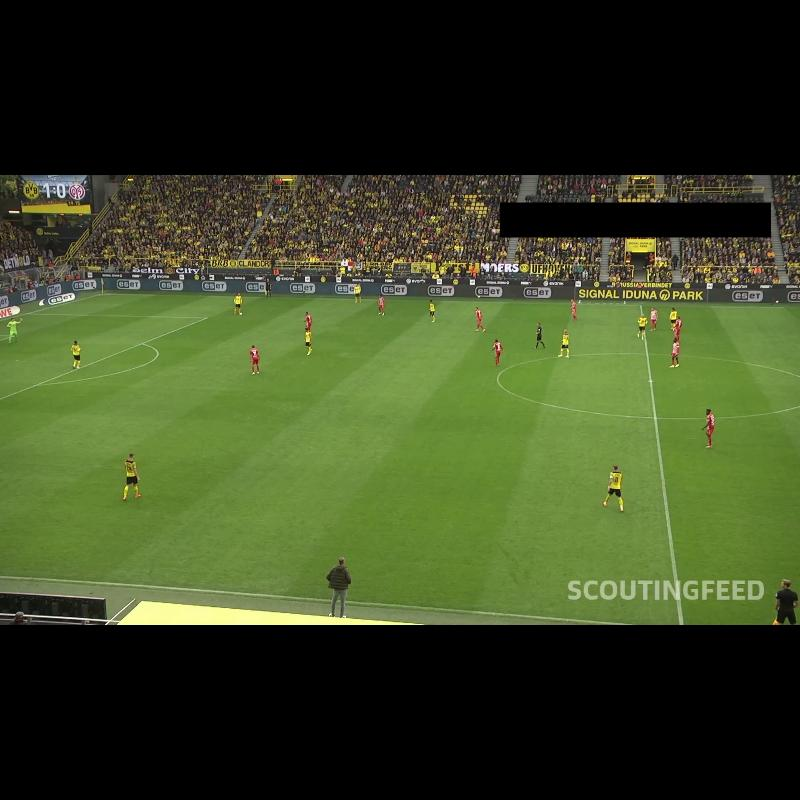cross_recipient_zone: (0, 313, 207, 399)
crossing_player_zone: (31, 293, 343, 320), (0, 445, 63, 486)
pitch: (0, 294, 800, 625)
